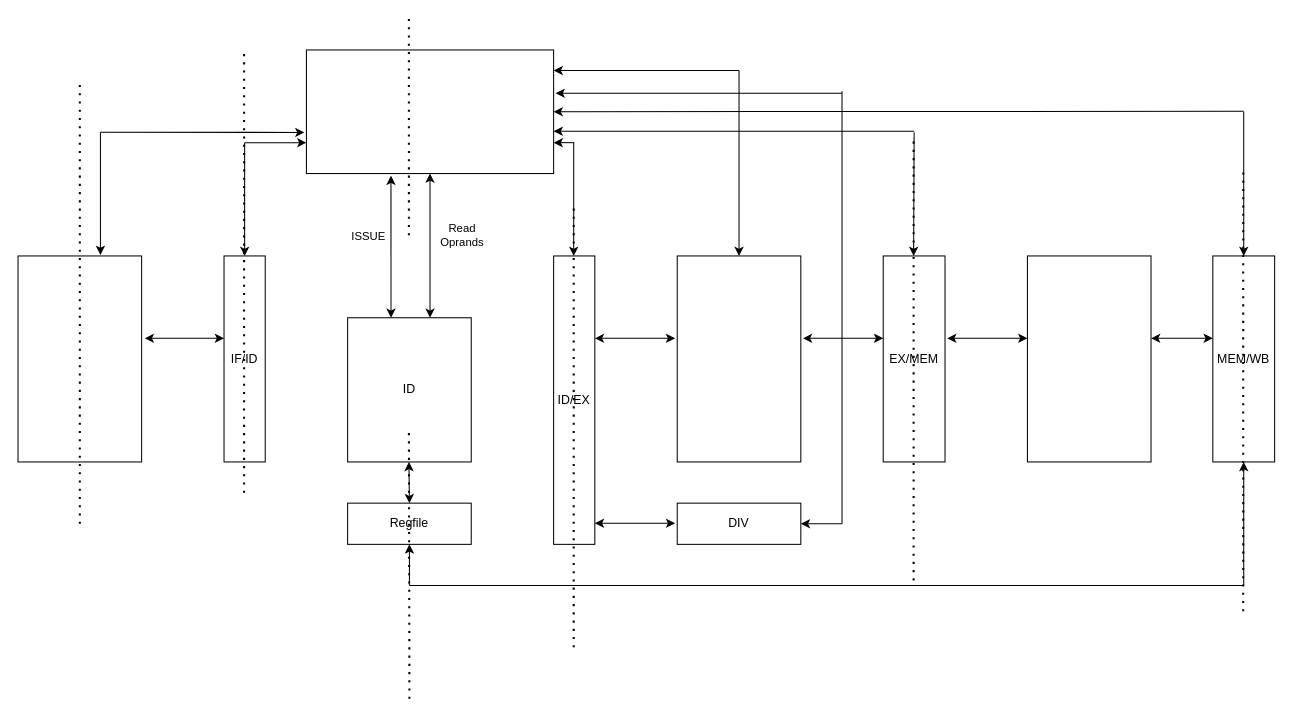
This 1293x718 diagram has some shape labels left out. The shapes that lost their labels are listed below. From the top down, each one's centre as x and y in pixels, then its label:
At pixel 429 111: "Scoreboard".
At pixel 79 358: "PC_REG".
At pixel 738 358: "EX".
At pixel 1088 358: "MEM".
